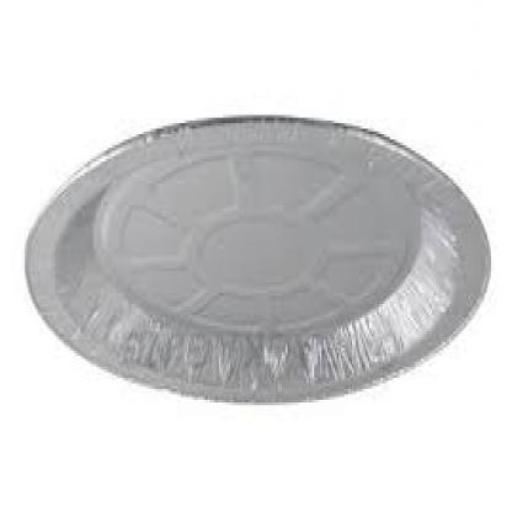metal: (26, 115, 493, 408)
